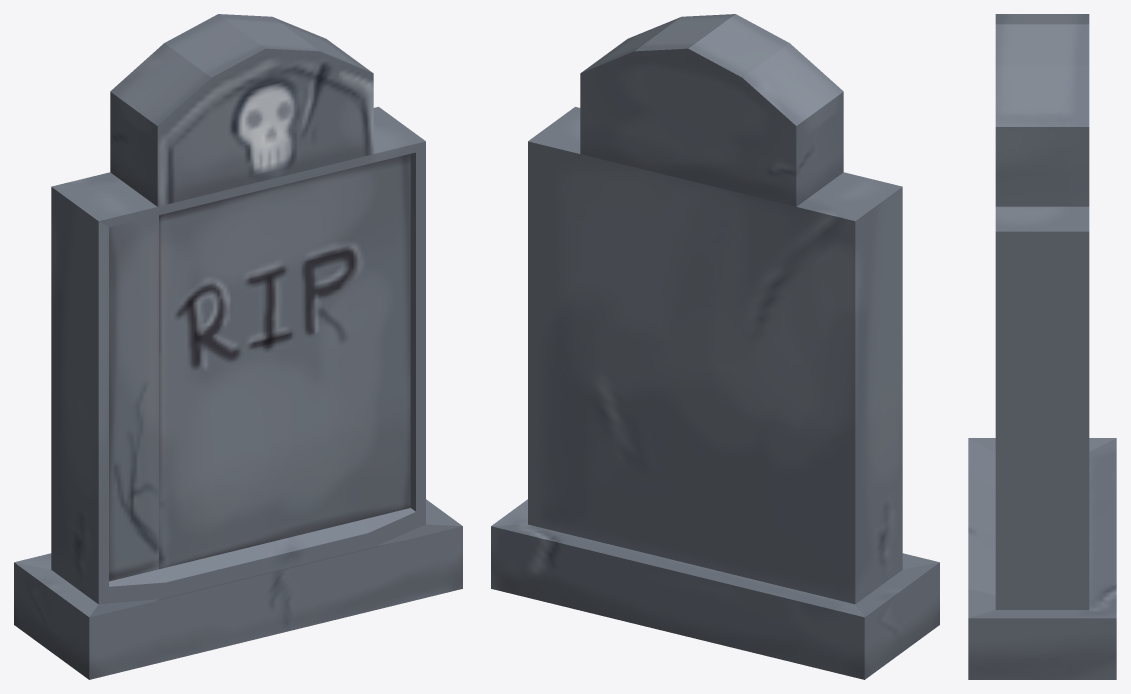
The model's file is lapide1.fbx.
The picture shows the model from 3 angles, left to right: view 1: azimuth 30°, elevation 25°; view 2: azimuth 150°, elevation 25°; view 3: azimuth 270°, elevation 25°; orthographic projection.
Visible parts, largest first — view 1: lapide1; view 2: lapide1; view 3: lapide1.
Boxes of the visible parts, x1,y1,x2,y2 form: lapide1: [14, 14, 462, 679]; lapide1: [491, 14, 939, 679]; lapide1: [968, 14, 1116, 679].
Size of the model in its own units: 331 by 486 by 115.
